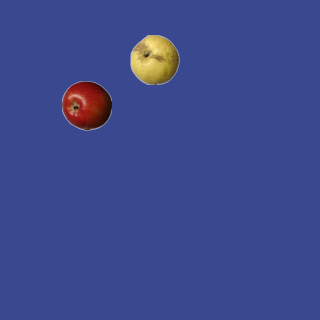Apple Braeburn: (61, 80, 111, 130)
Apple Golden 1: (129, 34, 179, 84)
